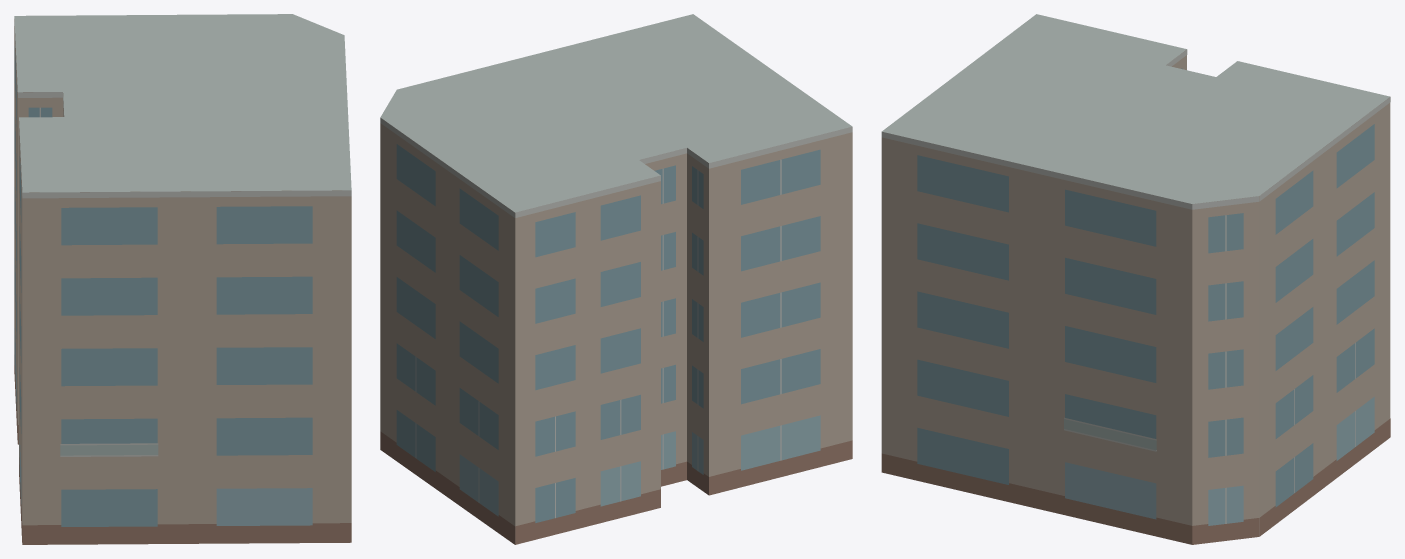
The model's file is survey-upis-32877602.glb.
3 renders of one model, left to right at view 1: azimuth 30°, elevation 25°; view 2: azimuth 150°, elevation 25°; view 3: azimuth 270°, elevation 25°, orthographic. The views are drawn at different scales.
Parts seen in each view (by area): view 1: survey-upis-32877602.tmp; view 2: survey-upis-32877602.tmp; view 3: survey-upis-32877602.tmp.
Part boxes in pixels (<box>): survey-upis-32877602.tmp: <box>14,14,351,544</box>; survey-upis-32877602.tmp: <box>380,14,852,544</box>; survey-upis-32877602.tmp: <box>881,14,1390,544</box>.
Bounding box in the file's own units: 17.47 × 14.6 × 19.77.
